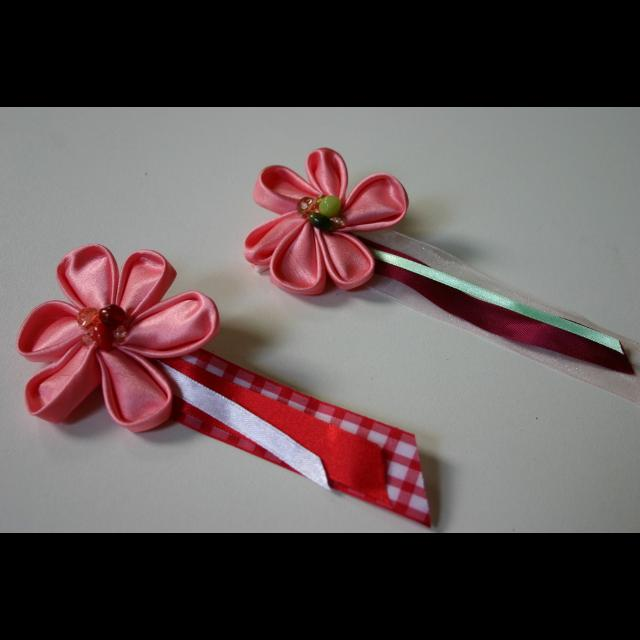Flower: (15, 245, 217, 431), (245, 148, 410, 294)
